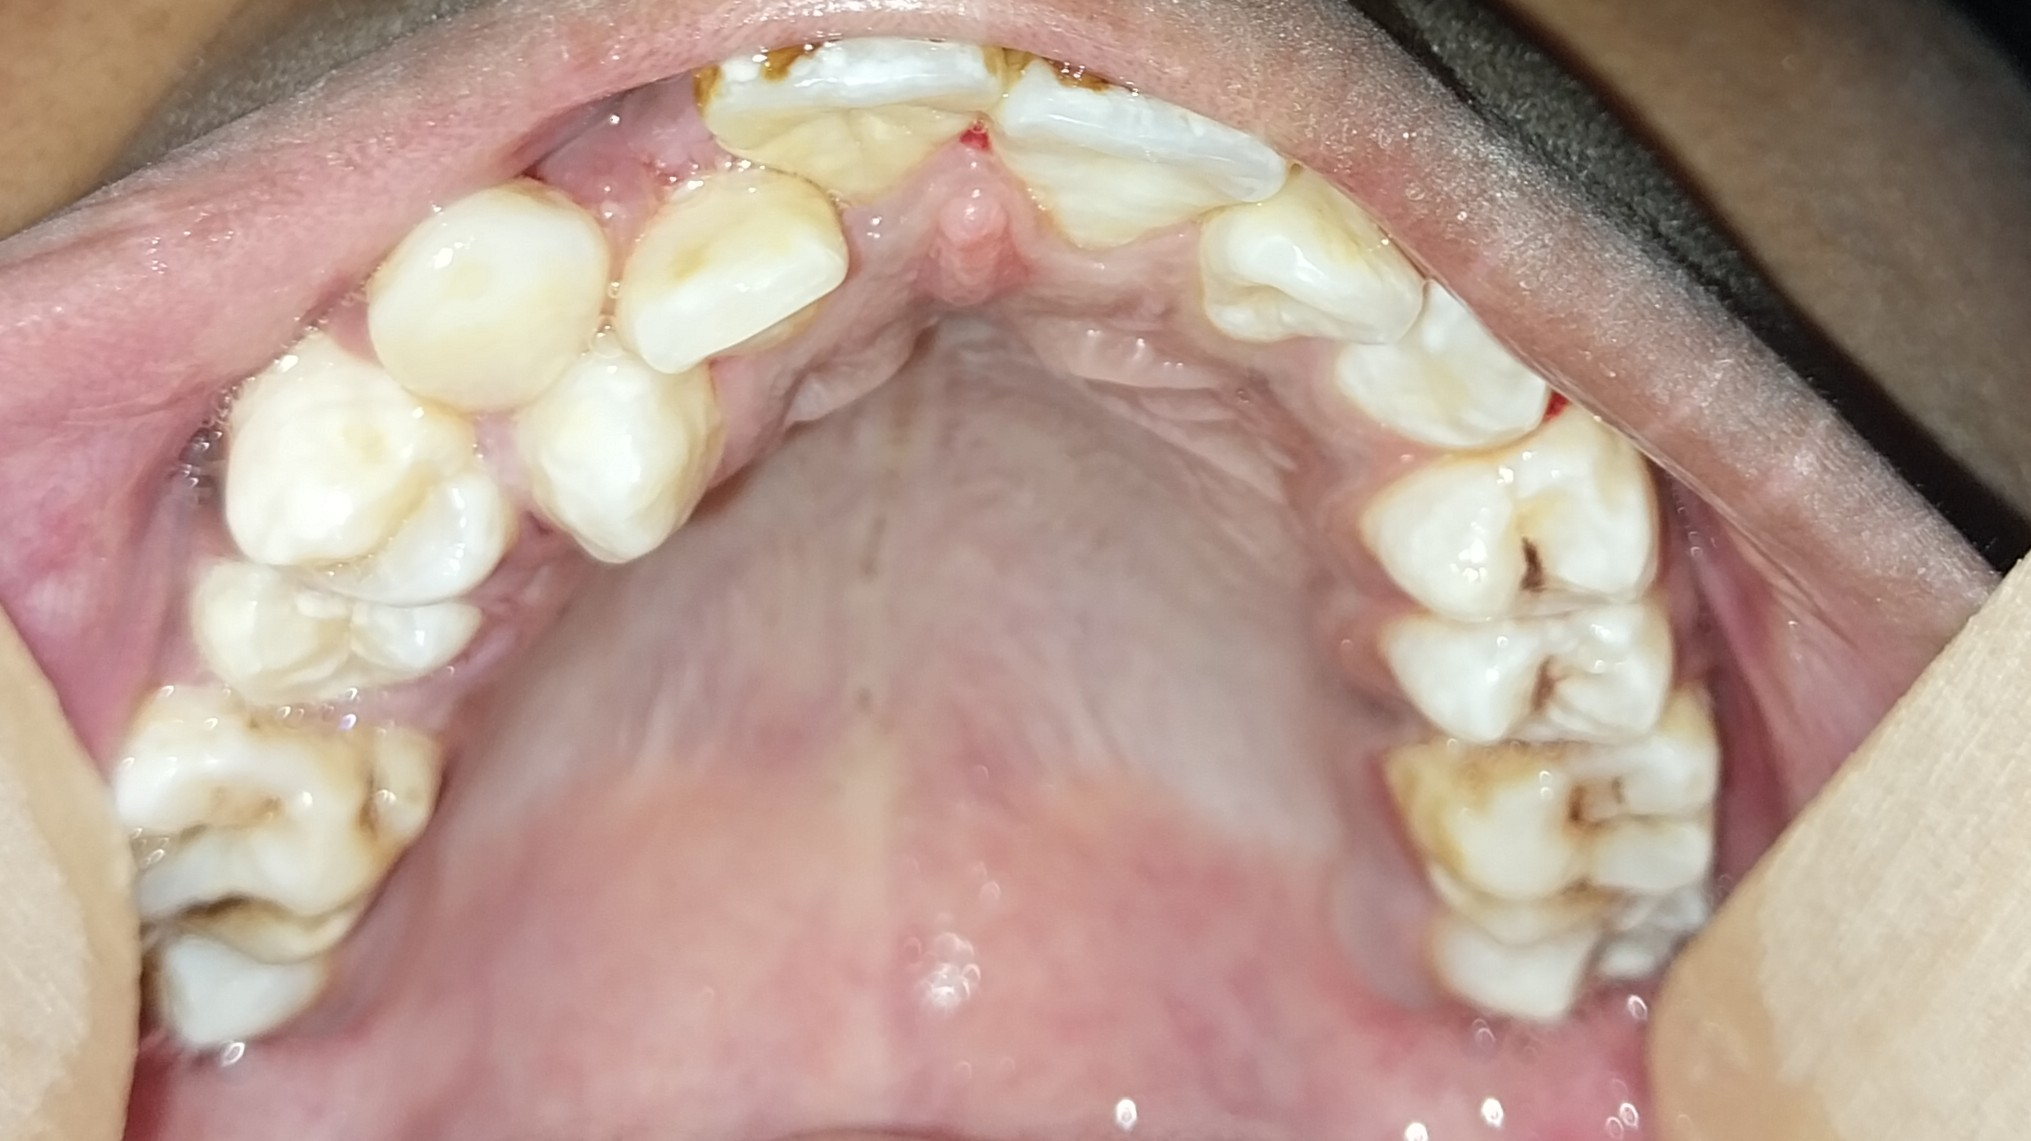D: (109, 691, 445, 962), (1385, 694, 1717, 935), (1359, 426, 1661, 622), (1372, 605, 1675, 738)
